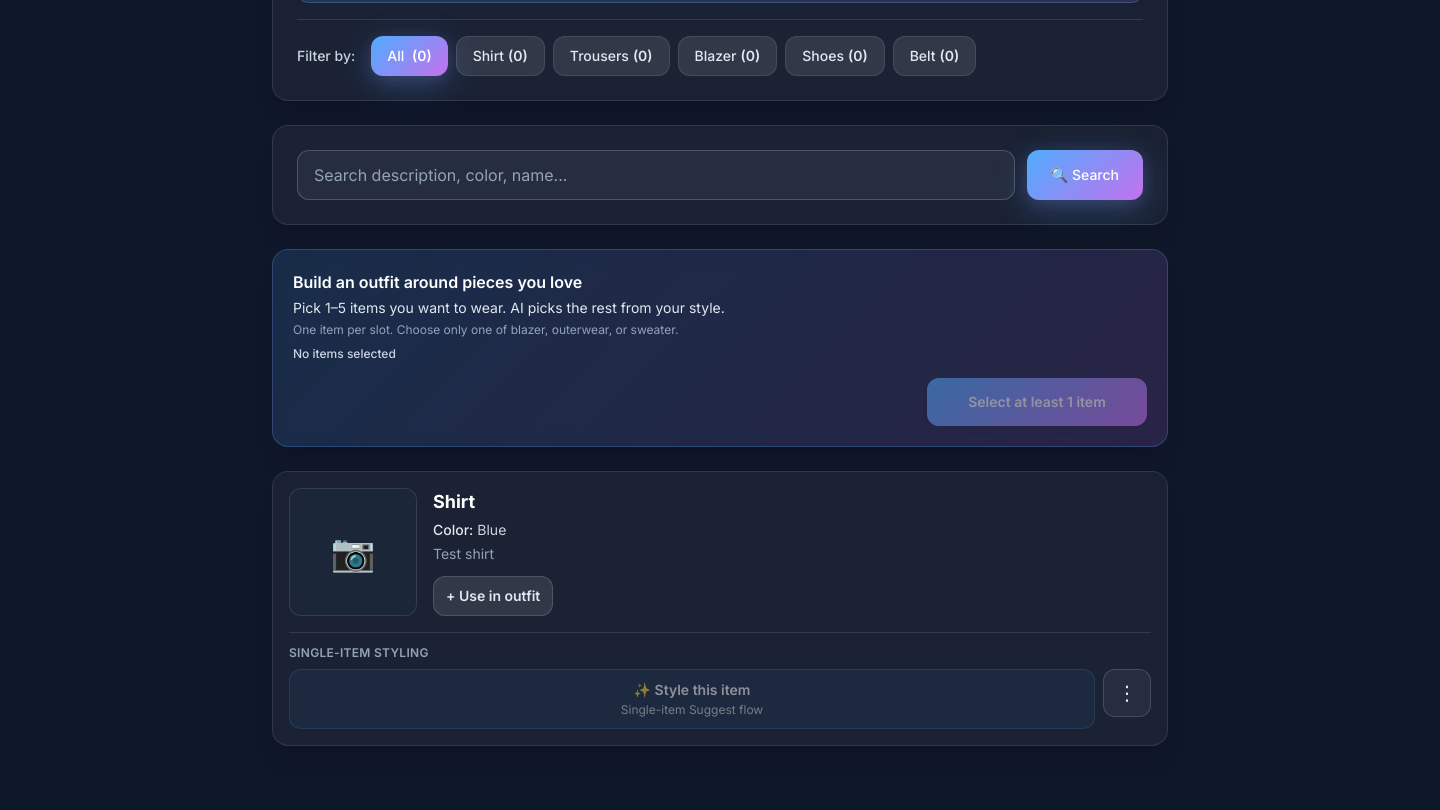
Scenario: Wardrobe page › shows undo toast on delete via menu and restores item when undo is tapped
This screenshot has width=1440, height=810.
(page scrolled)
Click the button "⋮": point(1127, 693) [1103,669,1151,717]
(page scrolled)
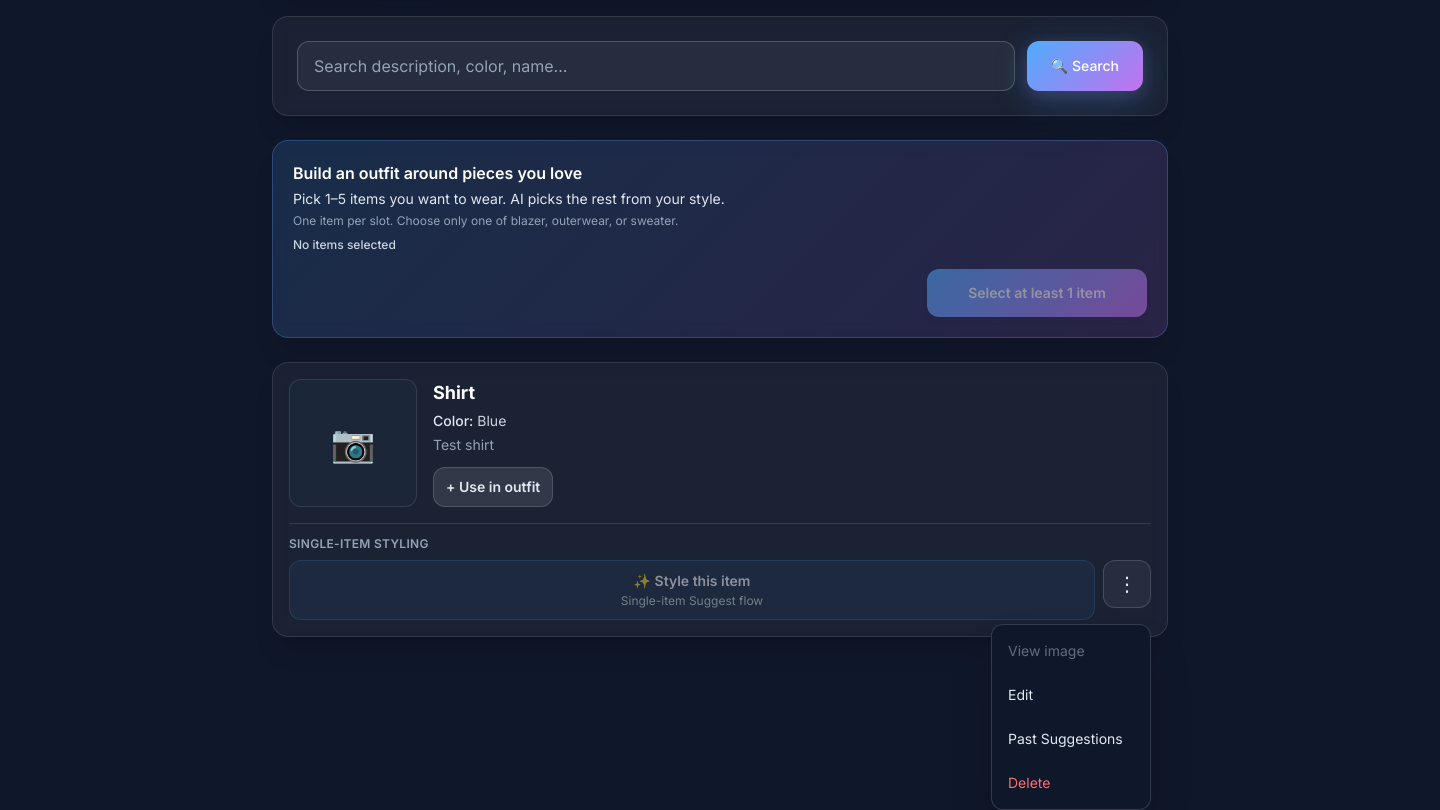
Click the menu item "Delete": point(1071, 783) [992,761,1150,805]
(page scrolled)
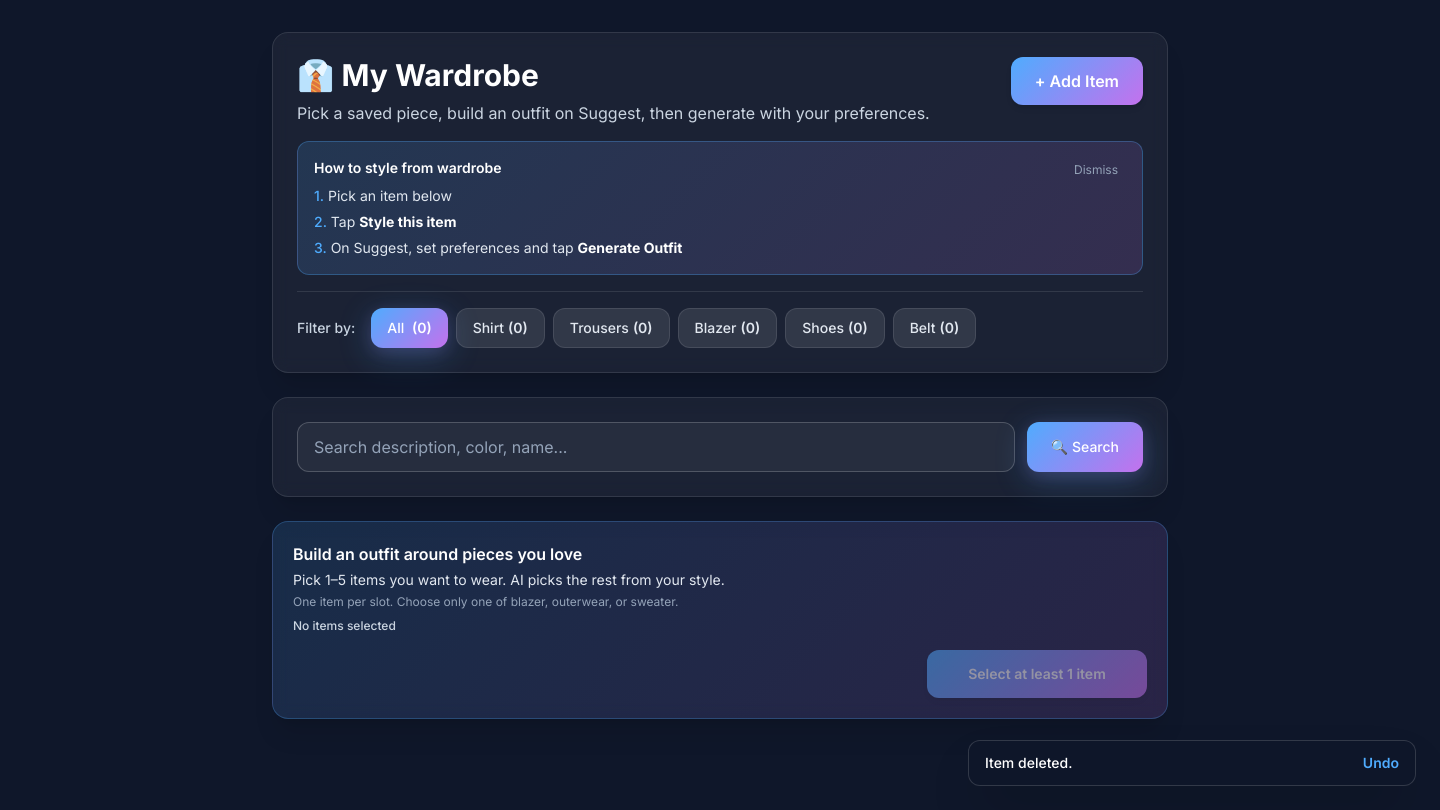
Check: the text "Blue" is gone
Check: the message "Item deleted. Undo" is shown, box [968,740,1416,786]
Check: the text "Item deleted." is shown, box [985,754,1072,771]
Click the button with aria-label "Undo delete": point(1381, 763) [1363,753,1399,773]
(page scrolled)
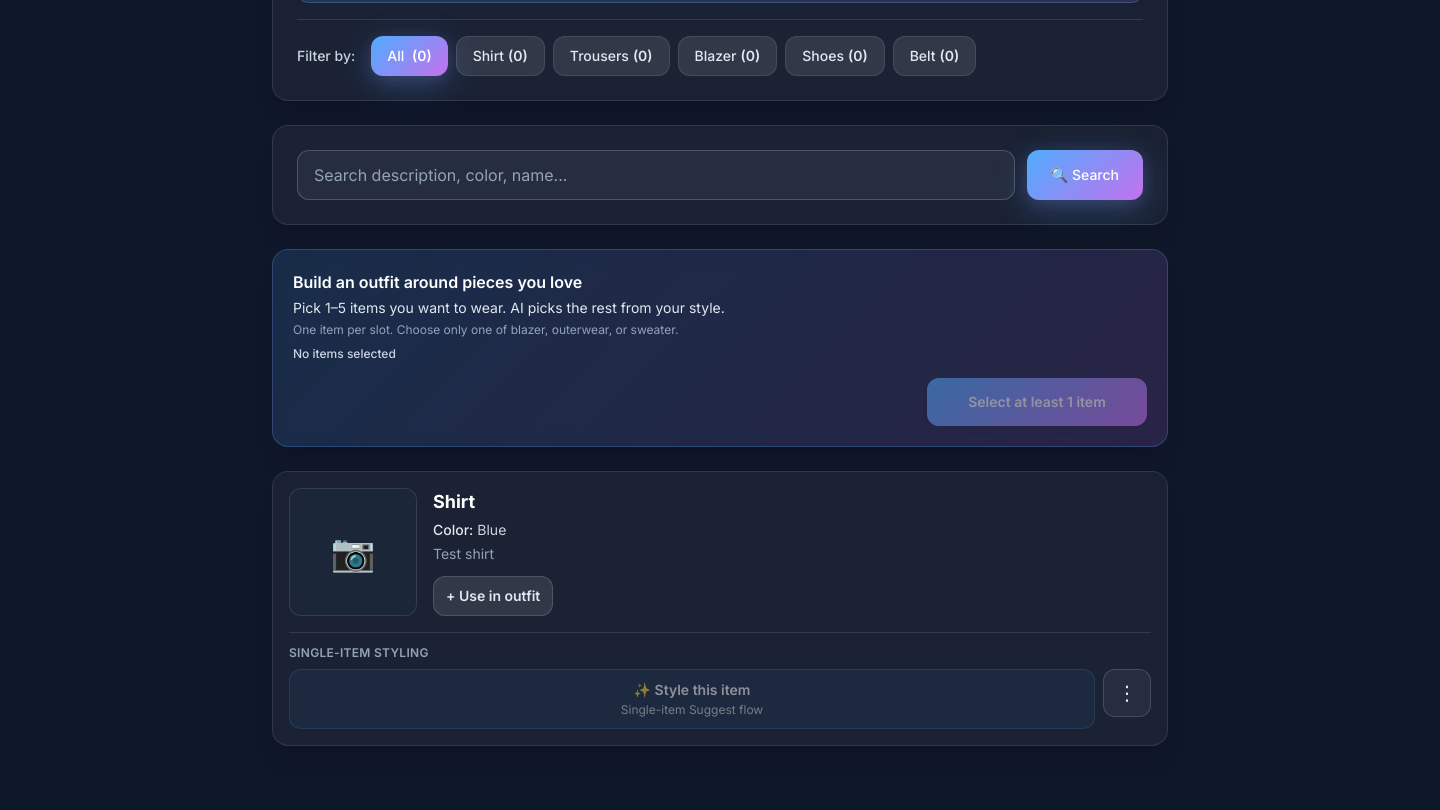
Check: the text "Blue" is shown, box [477,521,506,538]
Check: the message with test id "wardrobe-delete-undo-toast" is gone
